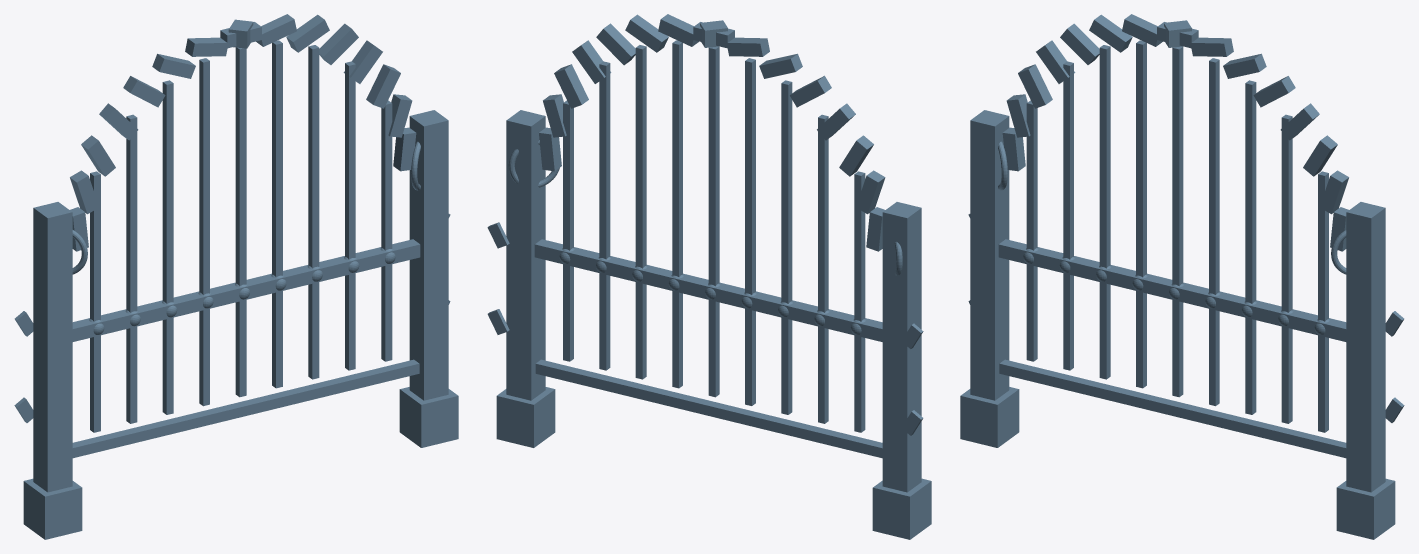
The picture shows the model from 3 angles, left to right: view 1: azimuth 30°, elevation 25°; view 2: azimuth 150°, elevation 25°; view 3: azimuth 330°, elevation 25°; orthographic projection.
Parts seen in each view (by area): view 1: Palo_Sinistro, Palo_Destro, Traversa_Centrale, Traversa_Inferiore, Sbarra_5, Sbarra_7, Sbarra_3, Sbarra_4, Sbarra_6, Sbarra_2, Sbarra_8, Base_Sinistra (+16 smaller); view 2: Palo_Sinistro, Palo_Destro, Traversa_Centrale, Traversa_Inferiore, Sbarra_5, Sbarra_7, Sbarra_3, Sbarra_4, Sbarra_6, Sbarra_8, Sbarra_2, Base_Sinistra (+17 smaller); view 3: Palo_Destro, Palo_Sinistro, Traversa_Centrale, Traversa_Inferiore, Sbarra_5, Sbarra_3, Sbarra_7, Sbarra_6, Sbarra_4, Sbarra_8, Sbarra_2, Base_Destra (+16 smaller).
Boxes of the visible parts, x1,y1,x2,y2 form: Palo_Sinistro: (33, 202, 72, 492); Palo_Destro: (409, 110, 448, 400); Traversa_Centrale: (72, 239, 420, 341); Traversa_Inferiore: (72, 359, 419, 458); Sbarra_5: (235, 47, 246, 397); Sbarra_7: (308, 45, 319, 379); Sbarra_3: (162, 80, 173, 414); Sbarra_4: (199, 58, 209, 406); Sbarra_6: (272, 40, 282, 388); Sbarra_2: (126, 114, 137, 423); Sbarra_8: (345, 61, 355, 370); Base_Sinistra: (23, 478, 82, 539); Palo_Sinistro: (882, 202, 921, 492); Palo_Destro: (506, 110, 545, 400); Traversa_Centrale: (534, 239, 882, 341); Traversa_Inferiore: (535, 359, 882, 458); Sbarra_5: (708, 46, 719, 397); Sbarra_7: (635, 45, 646, 379); Sbarra_3: (781, 80, 792, 414); Sbarra_4: (745, 58, 755, 405); Sbarra_6: (672, 40, 682, 388); Sbarra_8: (599, 61, 610, 370); Sbarra_2: (818, 114, 828, 423); Base_Sinistra: (872, 478, 931, 539); Palo_Destro: (1346, 202, 1385, 492); Palo_Sinistro: (970, 110, 1009, 400); Traversa_Centrale: (998, 239, 1346, 341); Traversa_Inferiore: (999, 359, 1346, 458); Sbarra_5: (1172, 46, 1183, 397); Sbarra_3: (1099, 45, 1110, 379); Sbarra_7: (1245, 80, 1256, 414); Sbarra_6: (1209, 58, 1219, 406); Sbarra_4: (1136, 40, 1146, 388); Sbarra_8: (1281, 114, 1292, 423); Sbarra_2: (1063, 61, 1073, 370); Base_Destra: (1336, 478, 1395, 539).
Size of the model in its own units: 3.14 by 3.16 by 0.27.
